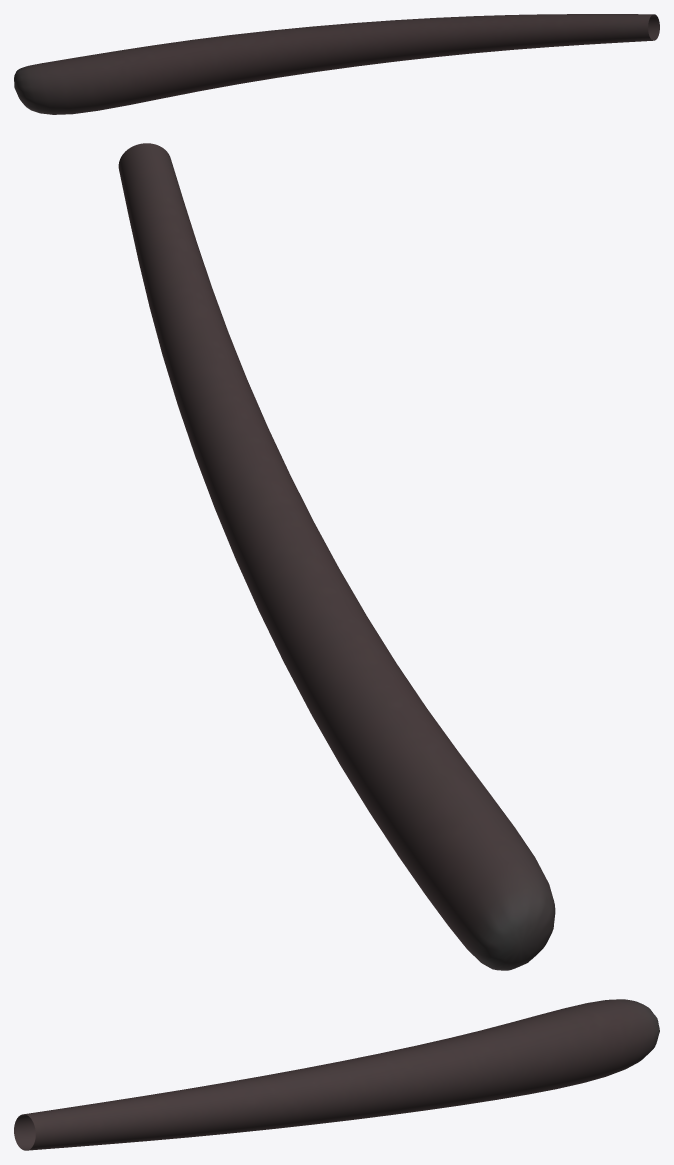
The picture shows the model from 3 angles, top to bottom: view 1: azimuth 30°, elevation 25°; view 2: azimuth 150°, elevation 25°; view 3: azimuth 270°, elevation 25°; orthographic projection. The views are drawn at different scales.
Parts seen in each view (by area): view 1: BezierCurve.015; view 2: BezierCurve.015; view 3: BezierCurve.015.
Part boxes in pixels (box(x1,y1,x2,y2)): BezierCurve.015: box(14, 14, 659, 114); BezierCurve.015: box(118, 143, 555, 970); BezierCurve.015: box(14, 999, 659, 1150).
Size of the model in its own units: 1.48 by 0.5193 by 1.41.
Materials: 1 (1 with a texture image).
